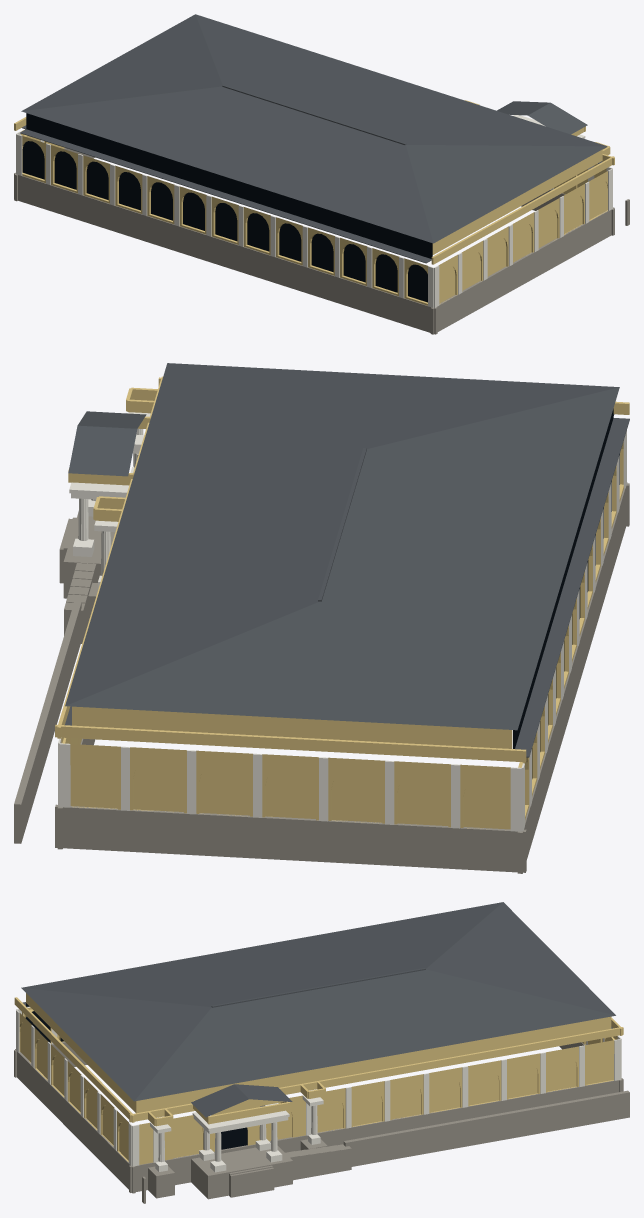
Rendered from termy_nautiko.lod.glb.
3 views of the same model, one above another, from view 1: azimuth 30°, elevation 25°; view 2: azimuth 150°, elevation 25°; view 3: azimuth 270°, elevation 25° (orthographic). The views are drawn at different scales.
Visible parts, largest first — view 1: termy_nautiko_roof, termy_nautiko_stone, termy_nautiko_glass, termy_nautiko_wall, termy_nautiko_wall2; view 2: termy_nautiko_roof, termy_nautiko_wall, termy_nautiko_stone, termy_nautiko_wall2, termy_nautiko_glass, termy_nautiko_trim_s; view 3: termy_nautiko_roof, termy_nautiko_wall, termy_nautiko_stone, termy_nautiko_wall2, termy_nautiko_trim_s, termy_nautiko_glass.
Part boxes in pixels (bbox=[...]): termy_nautiko_roof: bbox=[20, 14, 607, 263]; termy_nautiko_stone: bbox=[14, 148, 629, 334]; termy_nautiko_glass: bbox=[22, 113, 432, 302]; termy_nautiko_wall: bbox=[14, 100, 614, 305]; termy_nautiko_wall2: bbox=[16, 115, 612, 307]; termy_nautiko_roof: bbox=[65, 363, 629, 757]; termy_nautiko_wall: bbox=[55, 376, 629, 829]; termy_nautiko_stone: bbox=[14, 482, 629, 873]; termy_nautiko_wall2: bbox=[58, 412, 626, 831]; termy_nautiko_glass: bbox=[513, 408, 619, 778]; termy_nautiko_trim_s: bbox=[78, 428, 143, 575]; termy_nautiko_roof: bbox=[21, 902, 615, 1117]; termy_nautiko_wall: bbox=[14, 993, 623, 1164]; termy_nautiko_stone: bbox=[14, 1041, 629, 1203]; termy_nautiko_wall2: bbox=[16, 1009, 621, 1172]; termy_nautiko_trim_s: bbox=[158, 1105, 317, 1162]; termy_nautiko_glass: bbox=[25, 1003, 247, 1149].
Size of the model in its own units: 65.34 by 14.64 by 78.86.
